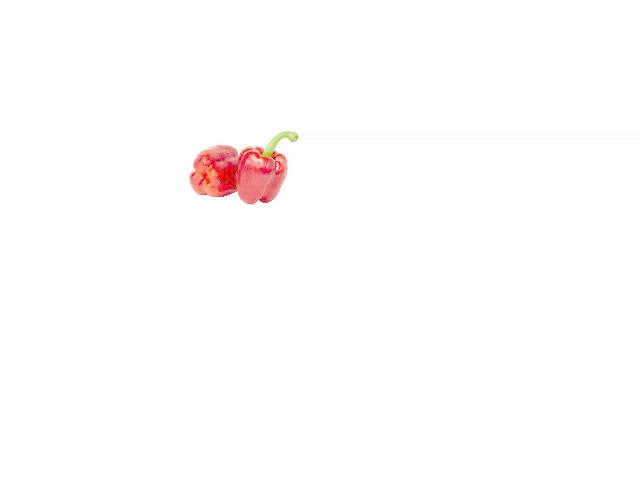bell_pepper: (189, 141, 238, 200)
